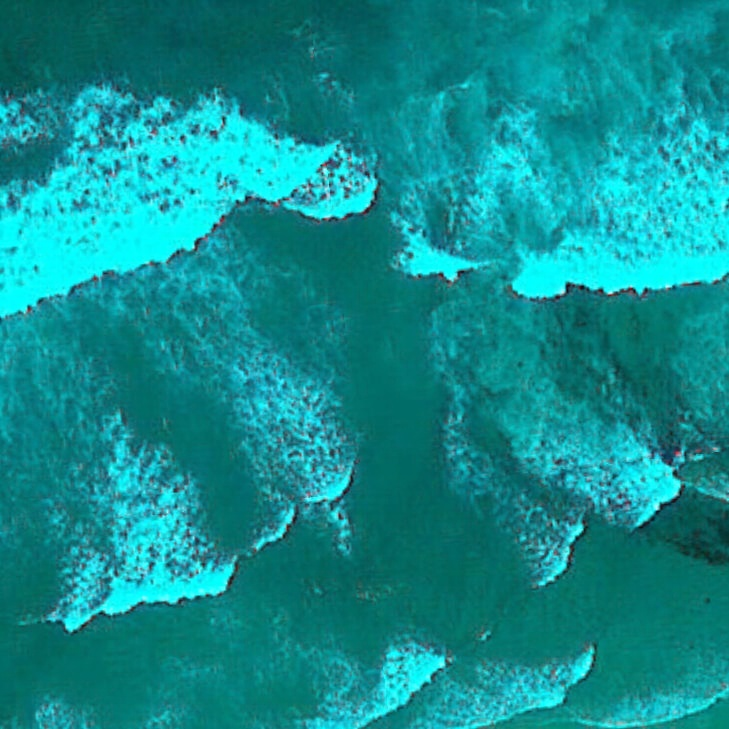rip_current: (212, 170, 581, 632)
